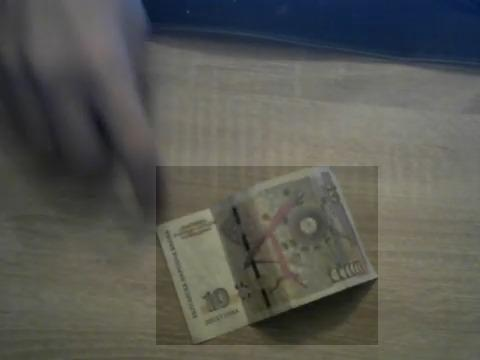10leva: (156, 166, 378, 345)
